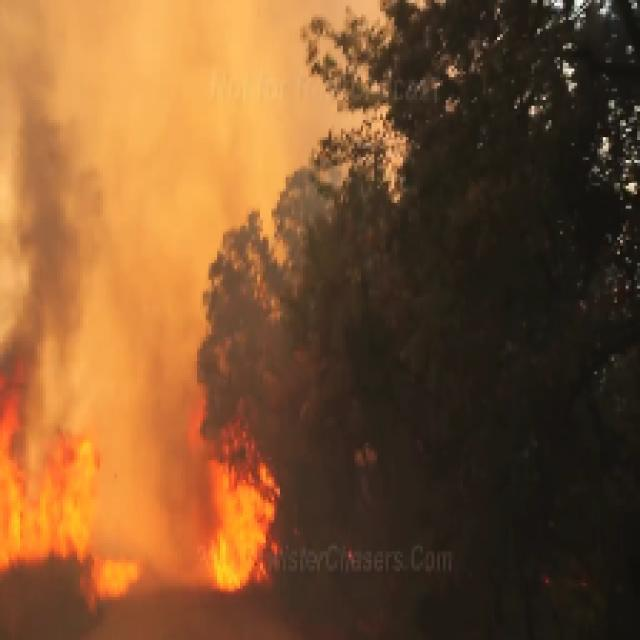Fire: (0, 340, 337, 614)
Smoke: (3, 9, 383, 412)
